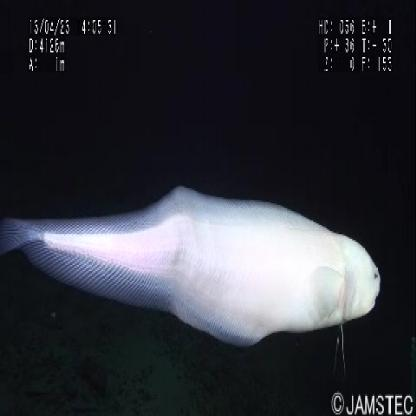Bio: (1, 180, 383, 350)
